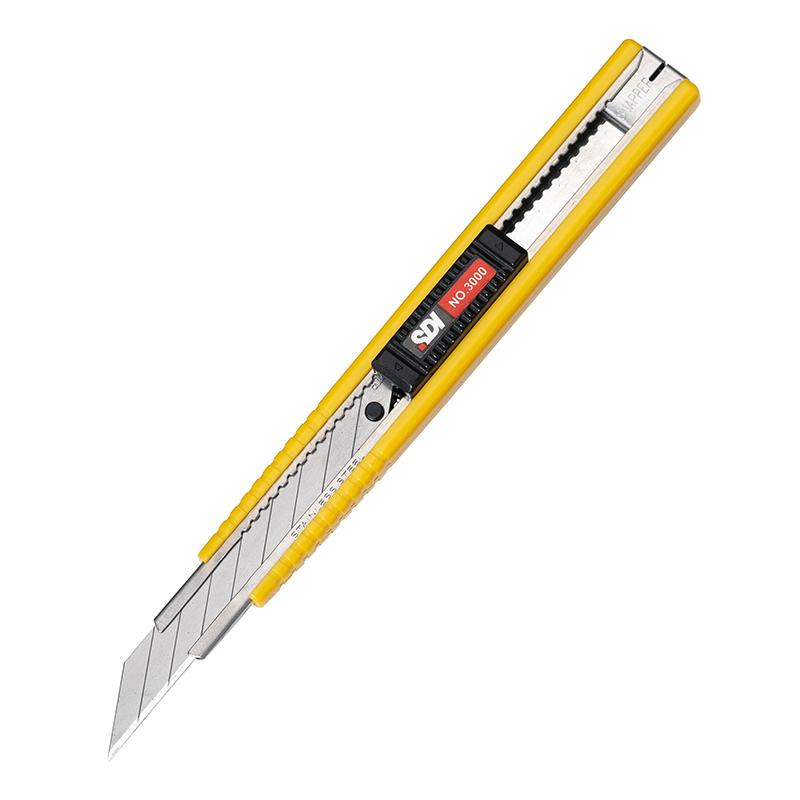cutter: (106, 37, 701, 758)
